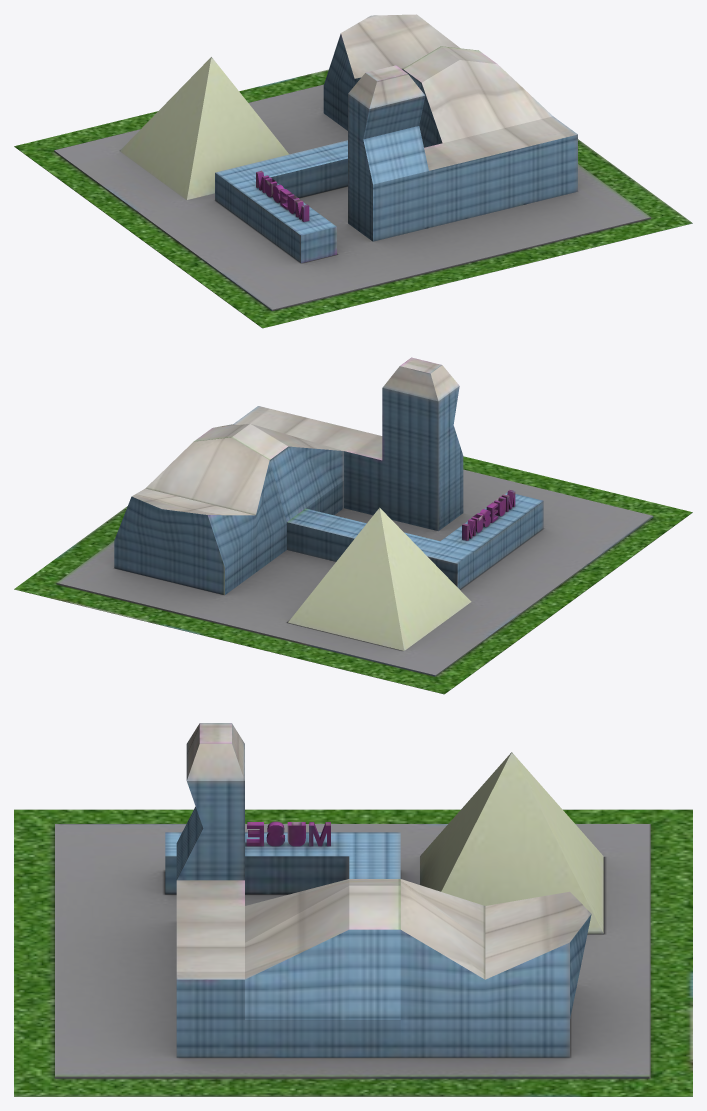
Rendered from cultural_zone.FBX.
3 renders of one model, top to bottom at view 1: azimuth 30°, elevation 25°; view 2: azimuth 150°, elevation 25°; view 3: azimuth 270°, elevation 25°, orthographic. The views are drawn at different scales.
Visible parts, largest first — view 1: Box004; view 2: Box004; view 3: Box004.
Boxes of the visible parts, x1=… form: Box004: x1=14, y1=14, x2=692, y2=328; Box004: x1=14, y1=357, x2=692, y2=694; Box004: x1=14, y1=723, x2=692, y2=1096.
Size of the model in its own units: 800 by 271 by 800.
1 material, 1 textured.
